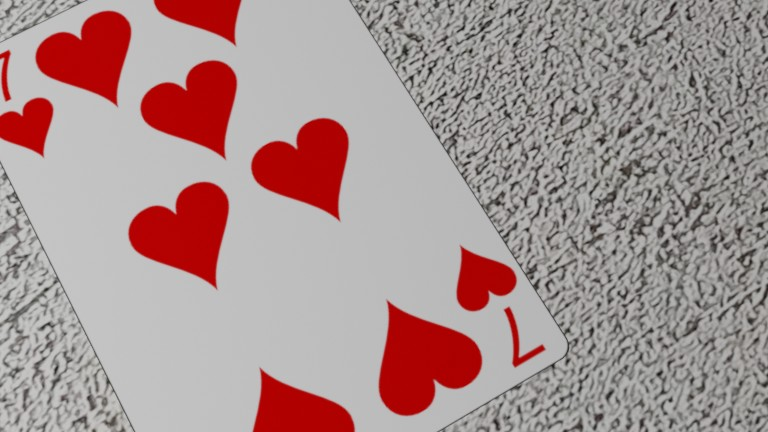7_of_hearts: (171, 92, 226, 153), (0, 16, 31, 70)
